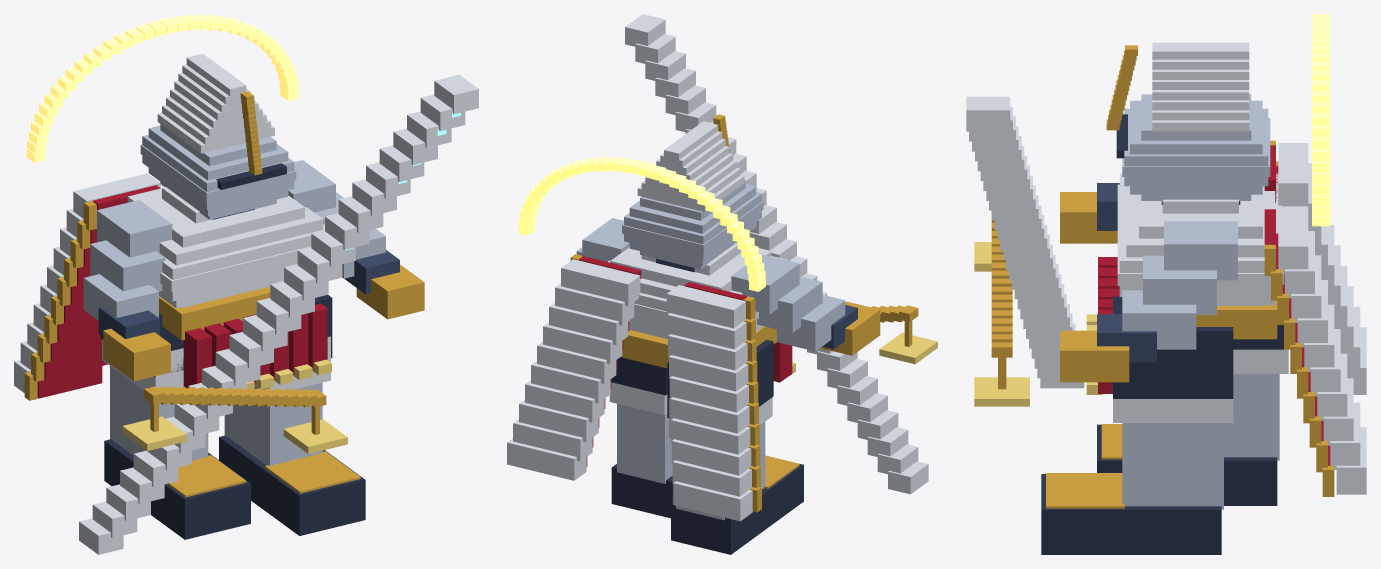
File: arena-inquisitor-captain.glb
The picture shows the model from 3 angles, left to right: view 1: azimuth 30°, elevation 25°; view 2: azimuth 150°, elevation 25°; view 3: azimuth 270°, elevation 25°; orthographic projection. The views are drawn at different scales.
Parts seen in each view (by area): view 1: JudgmentSword, Arms, Armor, Boots, Cloth, Trim, Head, Greaves, Miter, Rings, Scales, Hands (+4 smaller); view 2: Cape, JudgmentSword, Arms, Boots, Head, Rings, Miter, Armor, Greaves, Cloth, Trim, Scales (+3 smaller); view 3: Cape, JudgmentSword, Greaves, Arms, Boots, Head, Armor, Cloth, Miter, Trim, Hands, Scales (+3 smaller).
Boxes of the visible parts, x1,y1,x2,y2 form: JudgmentSword: (79,74,478,554); Arms: (83,160,399,338); Armor: (127,187,324,308); Boots: (104,435,365,539); Cloth: (37,185,332,398); Trim: (24,91,360,497); Head: (140,124,296,219); Greaves: (110,366,322,465); Miter: (157,53,274,153); Rings: (26,14,298,162); Scales: (122,386,347,453); Hands: (103,264,424,381); Cape: (507,259,752,521); JudgmentSword: (625,14,928,494); Arms: (576,218,857,351); Boots: (611,464,803,554); Head: (622,179,763,269); Rings: (518,156,765,291); Miter: (637,121,744,211); Armor: (608,242,787,338); Greaves: (617,404,765,520); Cloth: (579,256,792,466); Trim: (570,114,799,512); Scales: (871,305,937,364); Cape: (1278,143,1366,494); JudgmentSword: (966,96,1084,388); Greaves: (1122,374,1279,509); Arms: (1097,183,1237,362); Boots: (1041,424,1277,554); Head: (1122,94,1270,200); Armor: (1117,173,1284,305); Cloth: (1098,145,1330,465); Miter: (1152,42,1249,131); Trim: (1046,45,1334,508); Hands: (1060,192,1129,382); Scales: (974,211,1029,406).
Size of the model in its own units: 1.85 by 2.22 by 1.65.
